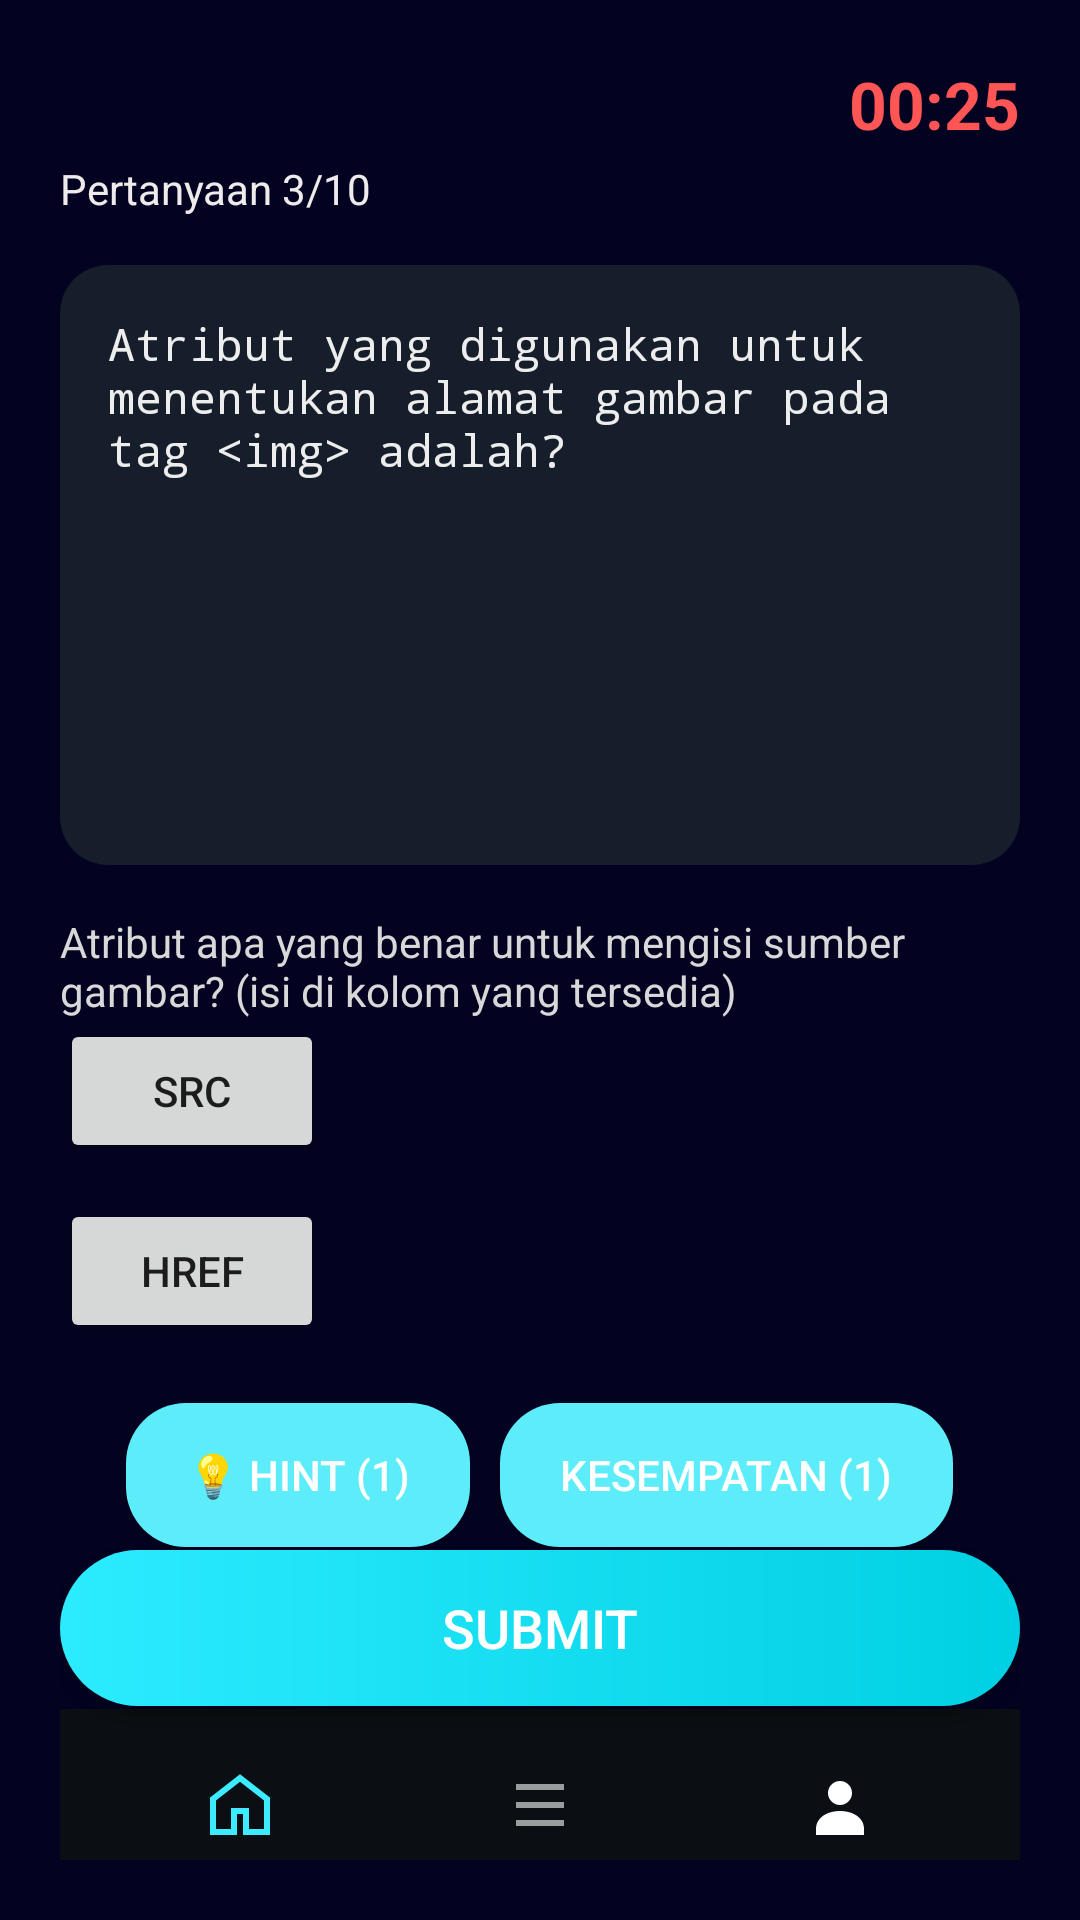

Icons on this 1080*1920 Android screen, each with the point to tap as (x=x, y=y):
home: (x=240, y=1804)
profile: (x=840, y=1808)
